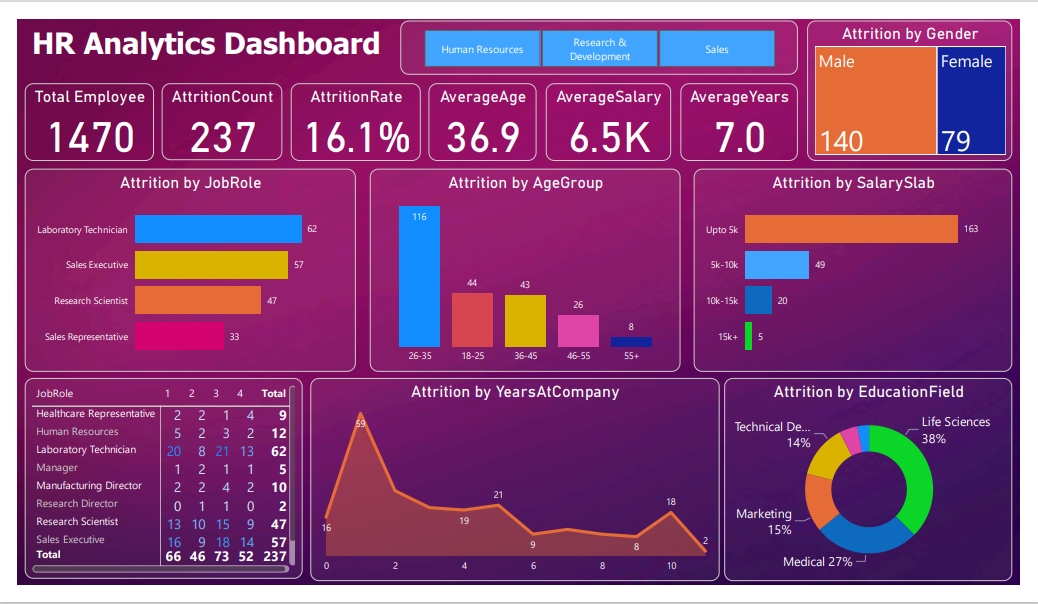

The dashboard page shown, as its layout file describes it:
{"tool":"powerbi","page":{"name":"Page 1","canvas":[1280,720],"ordinal":0},"visuals":[{"type":"card","title":"Total Employee ","fields":{"Values":["CountNonNull(HR_Analytics.EmpID)"]},"box":[8.8,80.8,164.7,98.8],"z":0},{"type":"card","title":"AttritionCount","fields":{"Values":["Sum(HR_Analytics.AttritionCount)"]},"box":[184,80.8,154.2,98],"z":1000},{"type":"card","title":"AttritionRate","fields":{"Values":["HR_Analytics.AttritionRate"]},"box":[348.7,80.8,166.2,98.8],"z":2000},{"type":"card","title":"AverageAge","fields":{"Values":["Avg(HR_Analytics.Age)"]},"box":[525.3,80.8,137.7,98.8],"z":3000},{"type":"card","title":"AverageSalary","fields":{"Values":["Avg(HR_Analytics.MonthlyIncome)"]},"box":[675,80.8,160.2,98.8],"z":4000},{"type":"card","title":"AverageYears","fields":{"Values":["Avg(HR_Analytics.YearsAtCompany)"]},"box":[847.2,80.8,149.7,98.8],"z":5000},{"type":"donutChart","title":" Attrition  by EducationField","fields":{"Category":["HR_Analytics.EducationField"],"Y":["Sum(HR_Analytics.AttritionCount)"]},"box":[902.6,456.5,368.3,259],"z":6000},{"type":"columnChart","title":" Attrition  by AgeGroup","fields":{"Category":["HR_Analytics.AgeGroup"],"Y":["Sum(HR_Analytics.AttritionCount)"]},"box":[450.5,190,396.7,259],"z":7000},{"type":"pivotTable","fields":{"Rows":["HR_Analytics.JobRole"],"Columns":["HR_Analytics.JobSatisfaction"],"Values":["Sum(HR_Analytics.AttritionCount)"]},"box":[8.8,456.5,354.8,256],"z":8000},{"type":"barChart","title":" Attrition  by SalarySlab","fields":{"Category":["HR_Analytics.SalarySlab"],"Y":["Sum(HR_Analytics.AttritionCount)"]},"box":[863.7,190,407.2,259],"z":9000},{"type":"barChart","title":" Attrition  by JobRole","fields":{"Y":["Sum(HR_Analytics.AttritionCount)"],"Category":["HR_Analytics.JobRole"]},"box":[8.8,190,423.7,259],"z":10000},{"type":"areaChart","title":" Attrition  by YearsAtCompany","fields":{"Category":["HR_Analytics.YearsAtCompany"],"Y":["Sum(HR_Analytics.AttritionCount)"]},"box":[374.1,456.5,522.5,259],"z":11000},{"type":"treemap","title":" Attrition  by Gender","fields":{"Group":["HR_Analytics.Gender"],"Values":["Sum(HR_Analytics.AttritionCount)"]},"box":[1008.9,1.4,262,178.2],"z":12000},{"type":"slicer","fields":{"Values":["HR_Analytics.Department"]},"box":[489.4,1.4,507.5,68.9],"z":13000},{"type":"textbox","box":[2.8,1.4,476.1,68.9],"z":14000}]}

Visuals, with their boxes in screenshot pixels (x1, y1, x2, y2):
"Total Employee " card: detection(10, 75, 141, 154)
"AttritionCount" card: detection(150, 75, 273, 154)
"AttritionRate" card: detection(282, 75, 414, 154)
"AverageAge" card: detection(423, 75, 533, 154)
"AverageSalary" card: detection(543, 75, 671, 154)
"AverageYears" card: detection(680, 75, 800, 154)
" Attrition  by EducationField" donutChart: detection(725, 376, 1019, 583)
" Attrition  by AgeGroup" columnChart: detection(363, 163, 680, 370)
pivotTable - HR_Analytics.JobRole x HR_Analytics.JobSatisfaction: detection(10, 376, 293, 581)
" Attrition  by SalarySlab" barChart: detection(693, 163, 1019, 370)
" Attrition  by JobRole" barChart: detection(10, 163, 349, 370)
" Attrition  by YearsAtCompany" areaChart: detection(302, 376, 720, 583)
" Attrition  by Gender" treemap: detection(810, 12, 1019, 154)
slicer - HR_Analytics.Department: detection(394, 12, 800, 67)
textbox: detection(5, 12, 386, 67)
